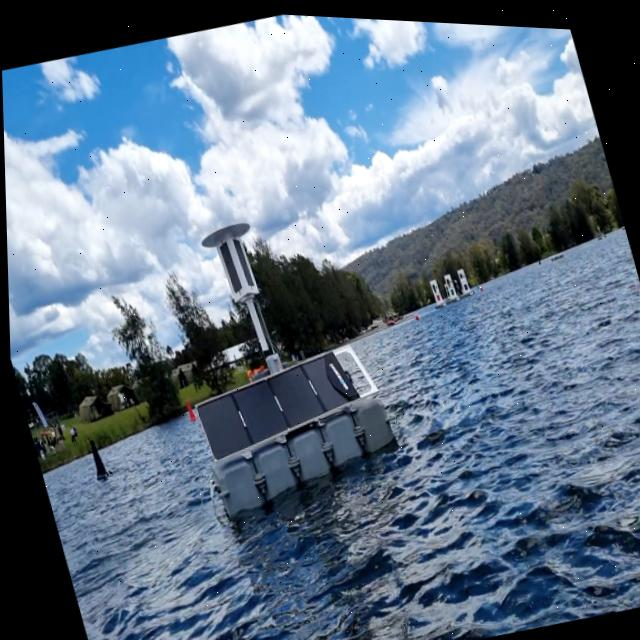led: (217, 239, 243, 292), (229, 232, 252, 288)
